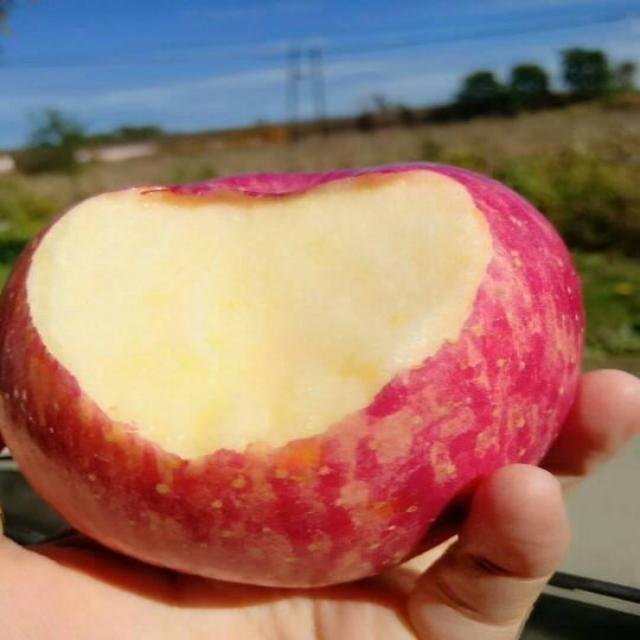Banana: (20, 182, 538, 587)
